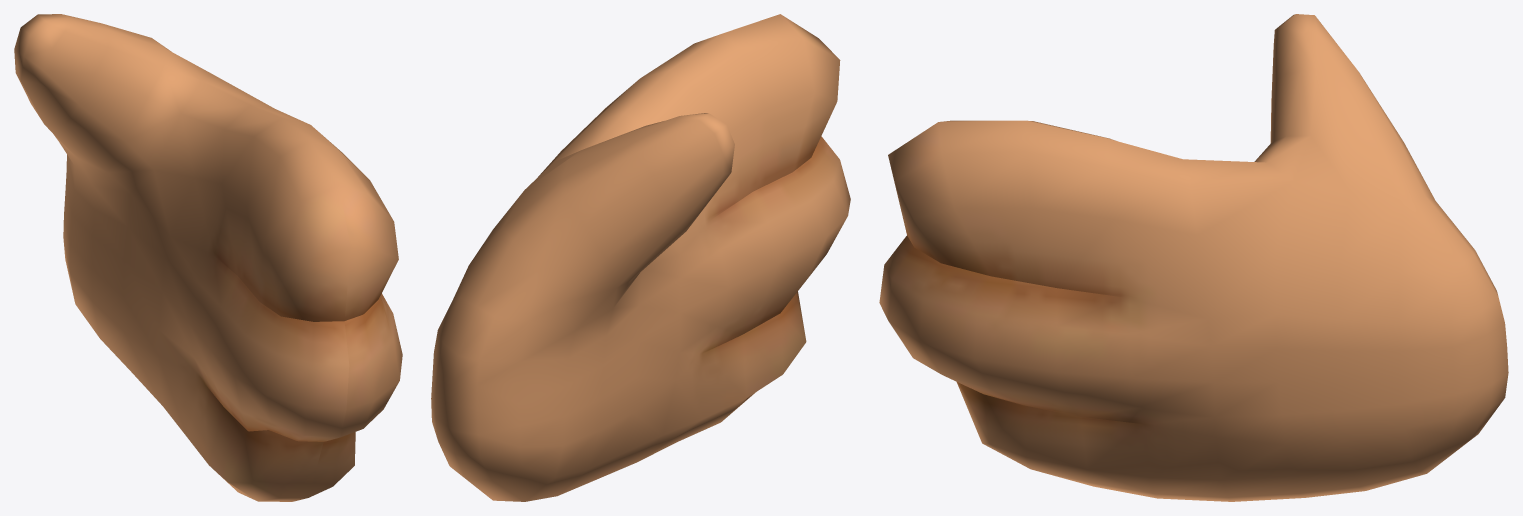
Rendered from Open_L.fbx.
3 renders of one model, left to right at view 1: azimuth 30°, elevation 25°; view 2: azimuth 150°, elevation 25°; view 3: azimuth 270°, elevation 25°, orthographic. The views are drawn at different scales.
Parts seen in each view (by area): view 1: Hand_Open_L; view 2: Hand_Open_L; view 3: Hand_Open_L.
Part boxes in pixels (box(x1,y1,x2,y2)): Hand_Open_L: box(14, 14, 402, 501); Hand_Open_L: box(431, 14, 850, 501); Hand_Open_L: box(879, 14, 1508, 501).
Size of the model in its own units: 0.1688 by 0.2697 by 0.367.
